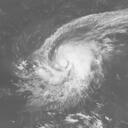cyclone: (33, 31, 95, 91)
